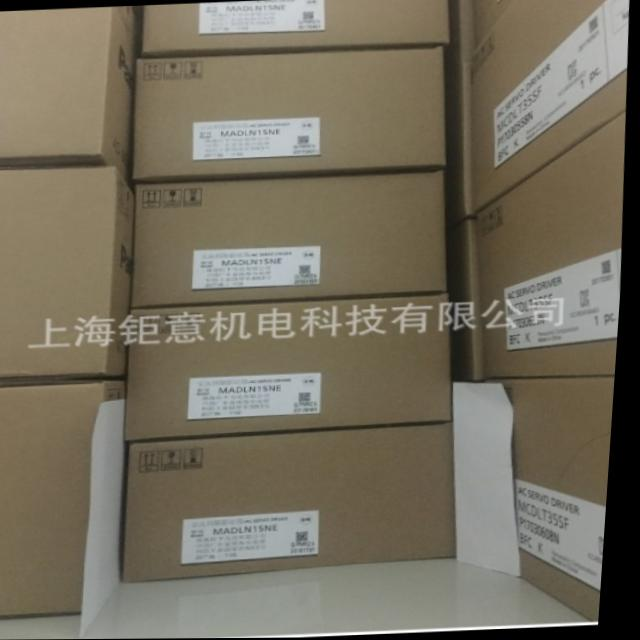box: (129, 423, 463, 582), (130, 293, 458, 443), (133, 170, 450, 309), (134, 49, 448, 184), (479, 113, 625, 379), (472, 0, 628, 214), (0, 376, 132, 620), (490, 375, 620, 622), (0, 164, 136, 382), (0, 5, 144, 192), (142, 0, 449, 58), (448, 218, 490, 381), (444, 61, 479, 234), (437, 0, 476, 79), (473, 0, 513, 54)
